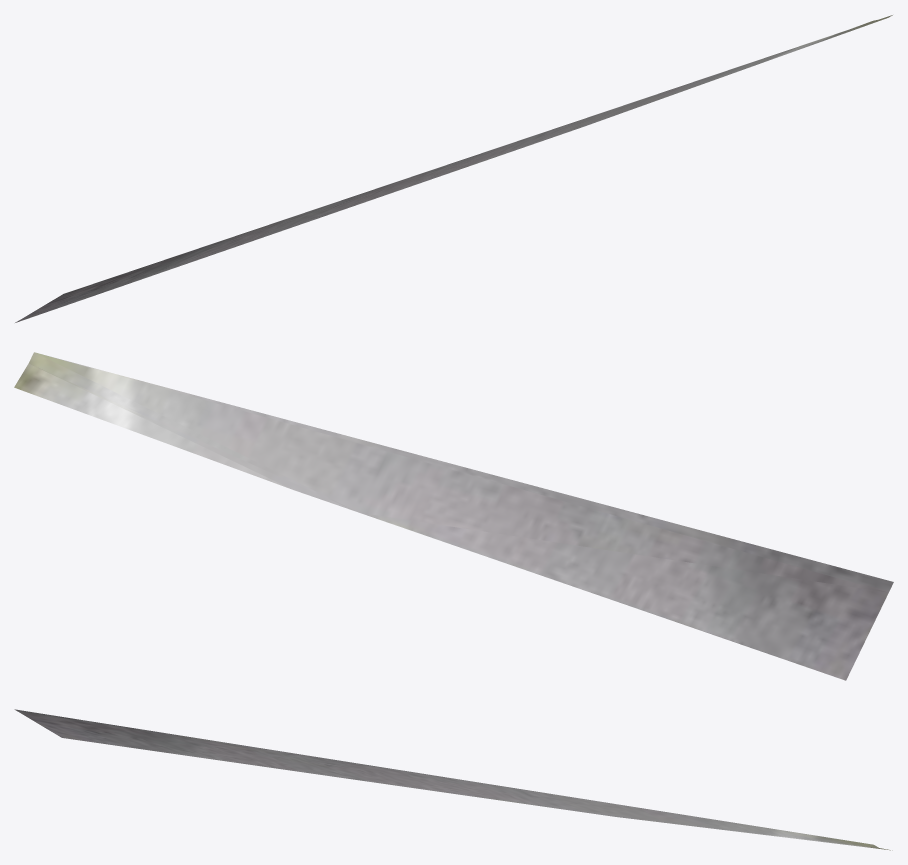
3 renders of one model, top to bottom at view 1: azimuth 30°, elevation 25°; view 2: azimuth 150°, elevation 25°; view 3: azimuth 330°, elevation 25°, orthographic. The views are drawn at different scales.
Bounding box in the file's own units: 2.95 × 0.3758 × 0.2942.
1 material, 1 textured.
